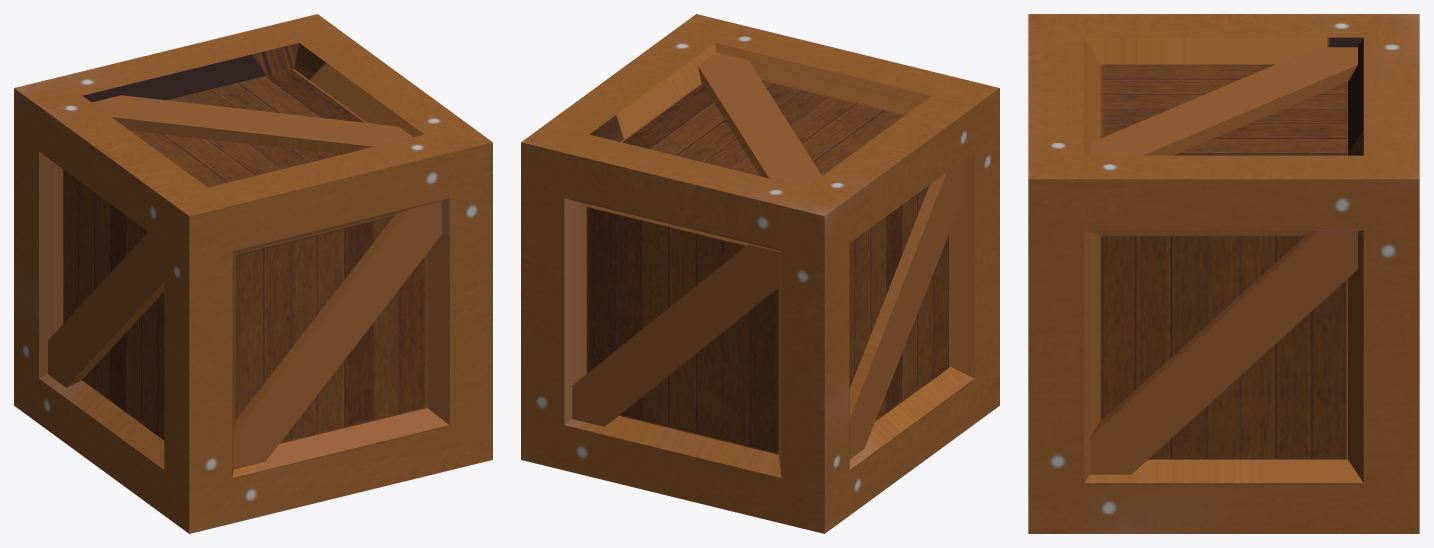
The model's file is Crate.fbx.
The picture shows the model from 3 angles, left to right: view 1: azimuth 30°, elevation 25°; view 2: azimuth 150°, elevation 25°; view 3: azimuth 270°, elevation 25°; orthographic projection. The views are drawn at different scales.
Visible parts, largest first — view 1: CrateBase, BeamFront, BeamTop, BeamLeft; view 2: CrateBase, BeamBack, BeamLeft, BeamTop; view 3: CrateBase, BeamRight, BeamTop.
Part boxes in pixels (<box>): CrateBase: <box>14,14,492,533</box>; BeamFront: <box>233,201,441,469</box>; BeamTop: <box>92,95,412,154</box>; BeamLeft: <box>48,232,164,387</box>; CrateBase: <box>521,14,999,533</box>; BeamBack: <box>572,244,780,426</box>; BeamLeft: <box>849,158,965,459</box>; BeamTop: <box>698,52,821,187</box>; CrateBase: <box>1028,14,1419,533</box>; BeamRight: <box>1090,231,1357,474</box>; BeamTop: <box>1090,47,1357,155</box>.
Size of the model in its own units: 1 by 1 by 1.
Materials: 2 (2 with a texture image).
